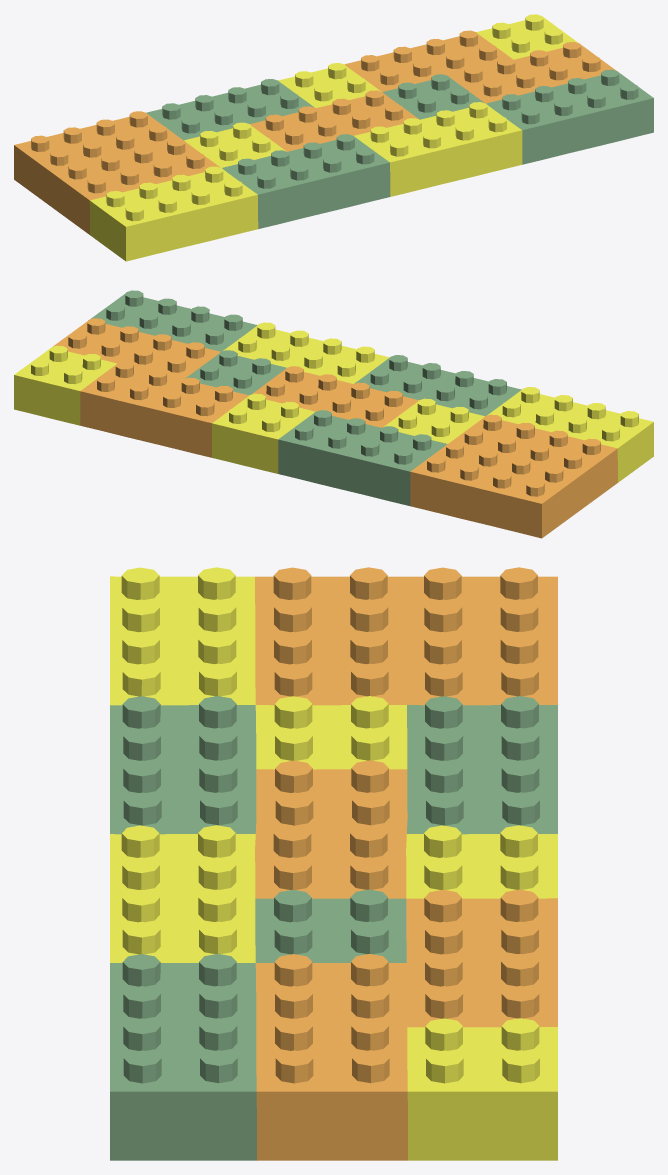
Rendered from LegoFloor (2).fbx.
The picture shows the model from 3 angles, top to bottom: view 1: azimuth 30°, elevation 25°; view 2: azimuth 150°, elevation 25°; view 3: azimuth 270°, elevation 25°; orthographic projection. The views are drawn at different scales.
Visible parts, largest first — view 1: polySurface8016; view 2: polySurface8016; view 3: polySurface8016.
Part boxes in pixels (x1,y1,x2,y2): polySurface8016: (14,14,653,261); polySurface8016: (14,290,653,538); polySurface8016: (110,567,557,1160).
Bounding box in the file's own units: 98.76 × 7.76 × 36.3.
